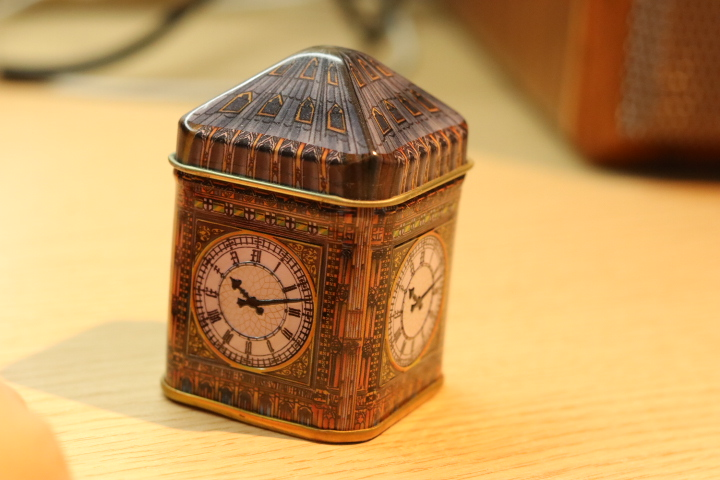Big Ben: (152, 37, 480, 449)
